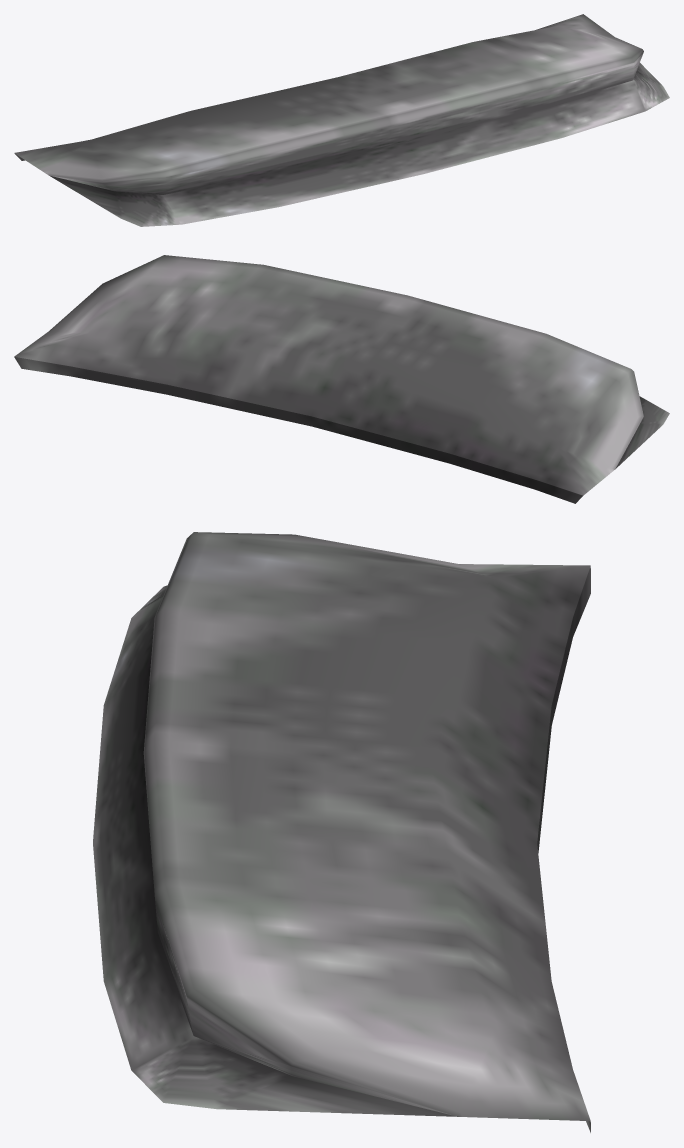
3 views of the same model, one above another, from view 1: azimuth 30°, elevation 25°; view 2: azimuth 150°, elevation 25°; view 3: azimuth 270°, elevation 25° (orthographic). The views are drawn at different scales.
Visible parts, largest first — view 1: rf_lr_bl2; view 2: rf_lr_bl2; view 3: rf_lr_bl2.
Part boxes in pixels (left/top/right/bottom): rf_lr_bl2: left=14, top=14, right=669, bottom=226; rf_lr_bl2: left=14, top=255, right=669, bottom=503; rf_lr_bl2: left=93, top=532, right=590, bottom=1132.
Bounding box in the file's own units: 1.88 × 0.1926 × 0.7129.
Materials: 1 (1 with a texture image).
